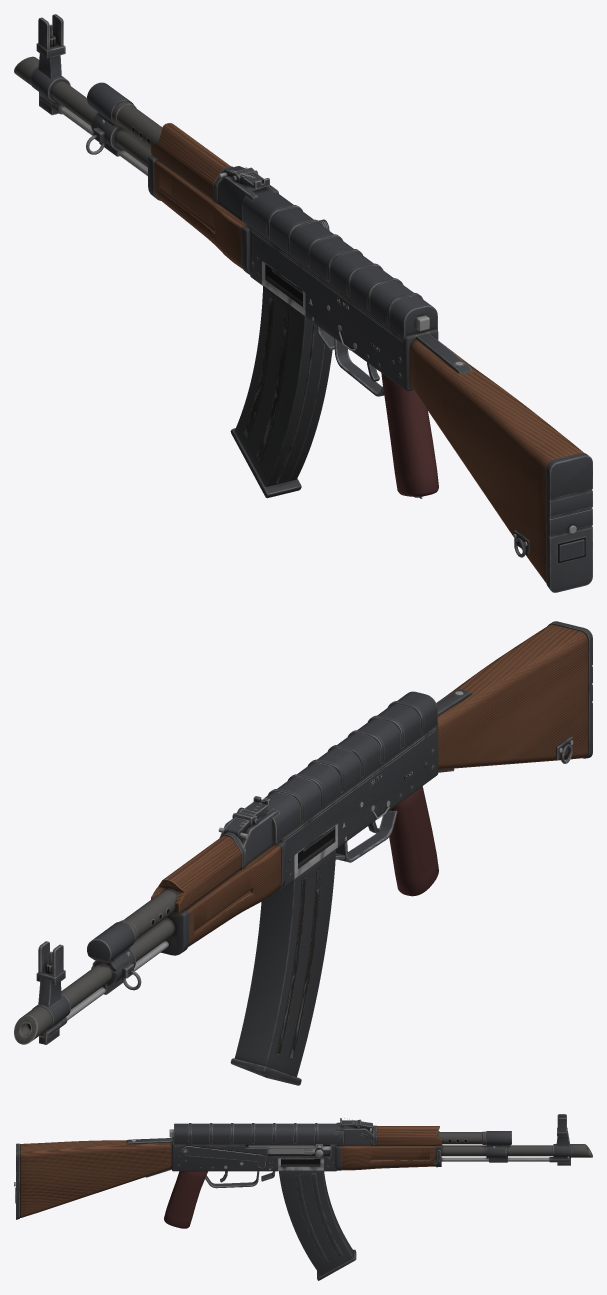
File: ak47_built.glb
3 views of the same model, one above another, from view 1: azimuth 30°, elevation 25°; view 2: azimuth 150°, elevation 25°; view 3: azimuth 270°, elevation 25° (orthographic). The views are drawn at different scales.
Parts seen in each view (by area): view 1: Body, Magazine; view 2: Body, Magazine; view 3: Body, Magazine, Bolt.
Boxes of the visible parts, x1,y1,x2,y2 form: Body: [14, 14, 592, 592]; Magazine: [230, 269, 332, 498]; Body: [14, 621, 592, 1044]; Magazine: [230, 826, 336, 1085]; Body: [14, 1114, 592, 1228]; Magazine: [279, 1153, 356, 1280]; Bolt: [248, 1144, 330, 1157].
Bounding box in the file's own units: 0.0664 × 0.27 × 0.8818.
1 material, 1 textured.
